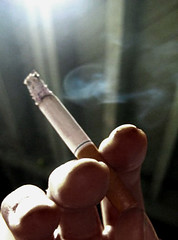cigarette: (21, 69, 139, 211)
